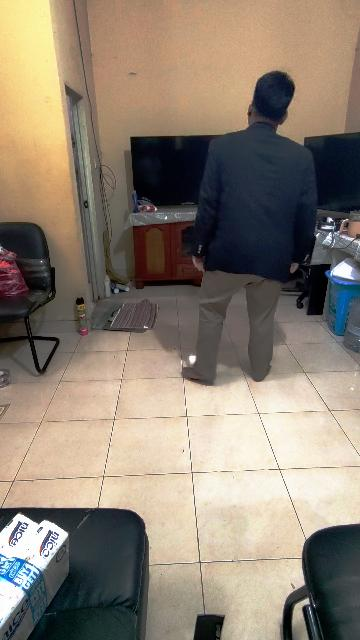berdiri: (187, 70, 318, 392)
